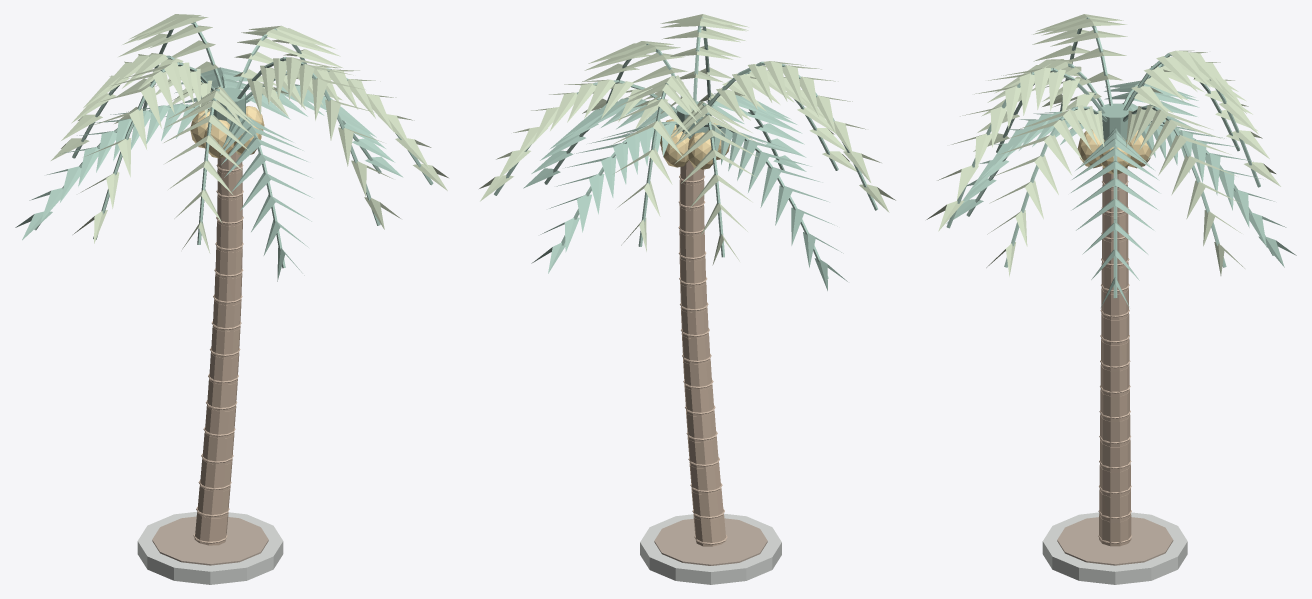
The model's file is prop-tree-palm.glb.
The picture shows the model from 3 angles, left to right: view 1: azimuth 30°, elevation 25°; view 2: azimuth 150°, elevation 25°; view 3: azimuth 270°, elevation 25°; orthographic projection. The views are drawn at different scales.
Parts seen in each view (by area): view 1: tube_1, tube_0; view 2: tube_1, tube_0; view 3: tube_1, tube_0.
Part boxes in pixels (x1=…): tube_1: x1=15, y1=14, x2=448, y2=565; tube_0: x1=137, y1=511, x2=283, y2=584; tube_1: x1=479, y1=14, x2=895, y2=565; tube_0: x1=640, y1=513, x2=781, y2=584; tube_1: x1=926, y1=14, x2=1296, y2=565; tube_0: x1=1042, y1=512, x2=1187, y2=584.
Bounding box in the file's own units: 2.51 × 3.49 × 2.31.
Materials: 2 (2 with a texture image).
